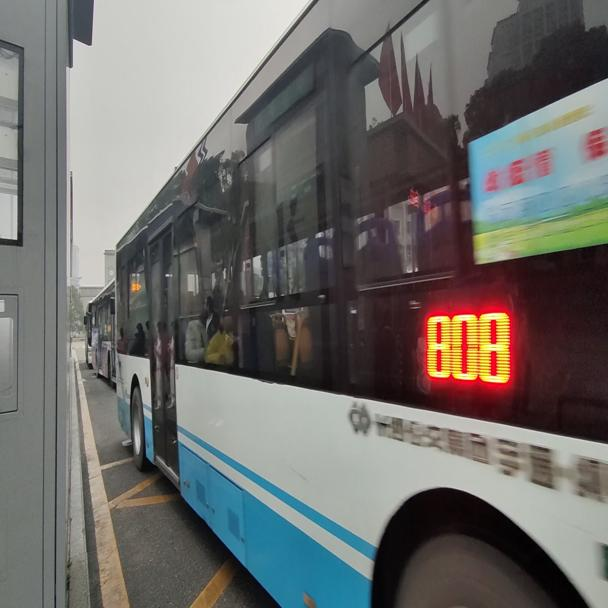bus: (76, 275, 118, 394)
screen: (418, 293, 517, 392)
